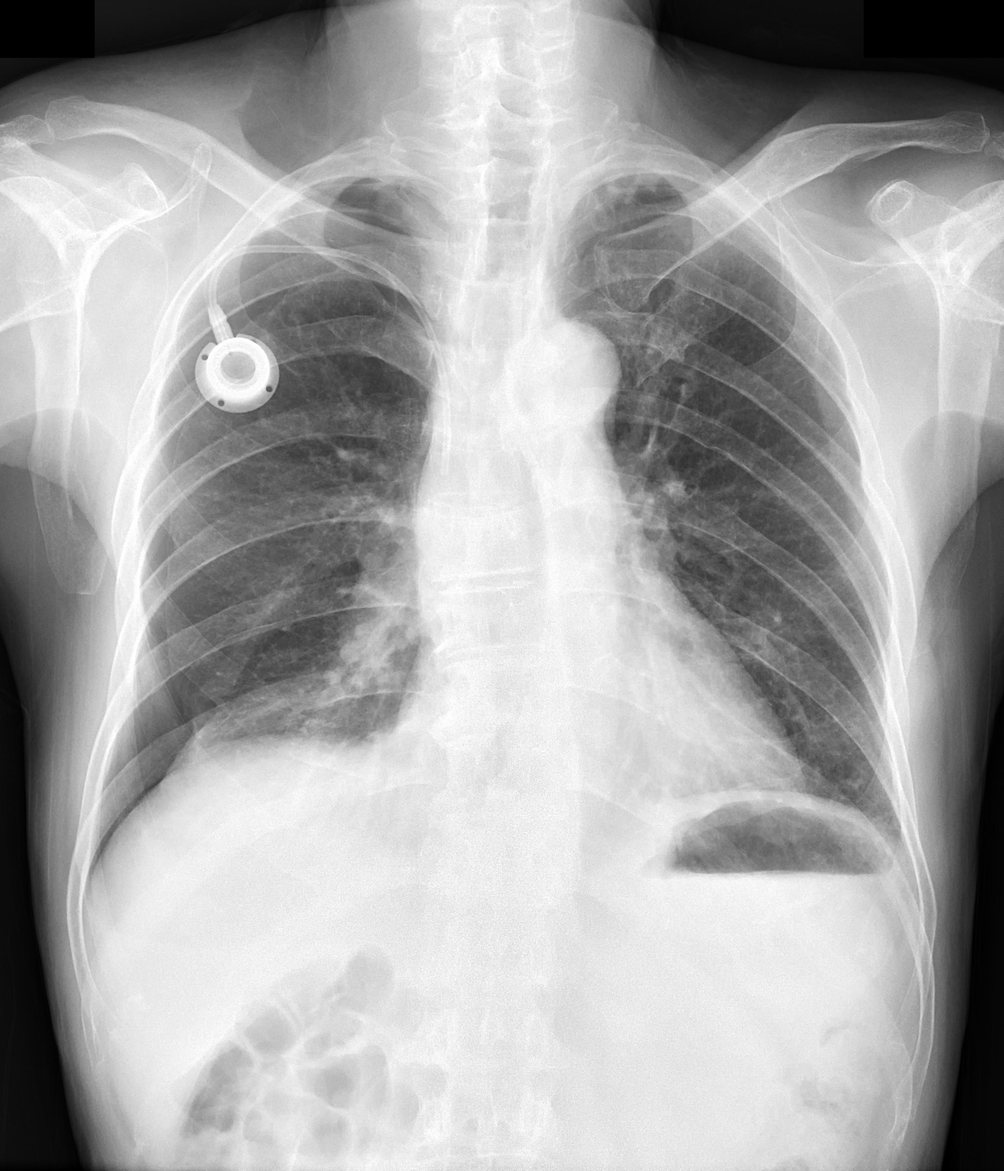Pleural thickening: (595, 162, 668, 193)
Pulmonary fibrosis: (595, 162, 668, 193)
